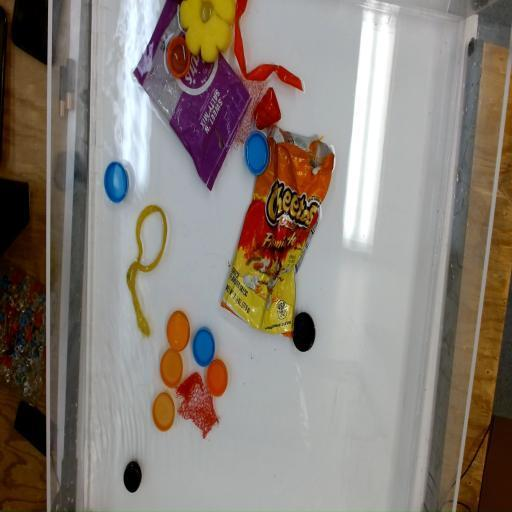Bottle Cap: (244, 130, 270, 175), (166, 310, 192, 352), (104, 161, 128, 203), (293, 312, 316, 353), (153, 390, 176, 430), (169, 37, 191, 78), (206, 358, 228, 398), (193, 328, 216, 366), (160, 351, 184, 386), (124, 461, 141, 494)
Cone Cap: (254, 86, 282, 130)
Netting: (179, 376, 220, 440), (230, 80, 264, 153)
Plastic Bag: (130, 0, 251, 208), (218, 130, 336, 343)
Plastic Strand: (234, 0, 306, 93), (125, 205, 172, 340)
Sponge: (180, 0, 237, 64)
